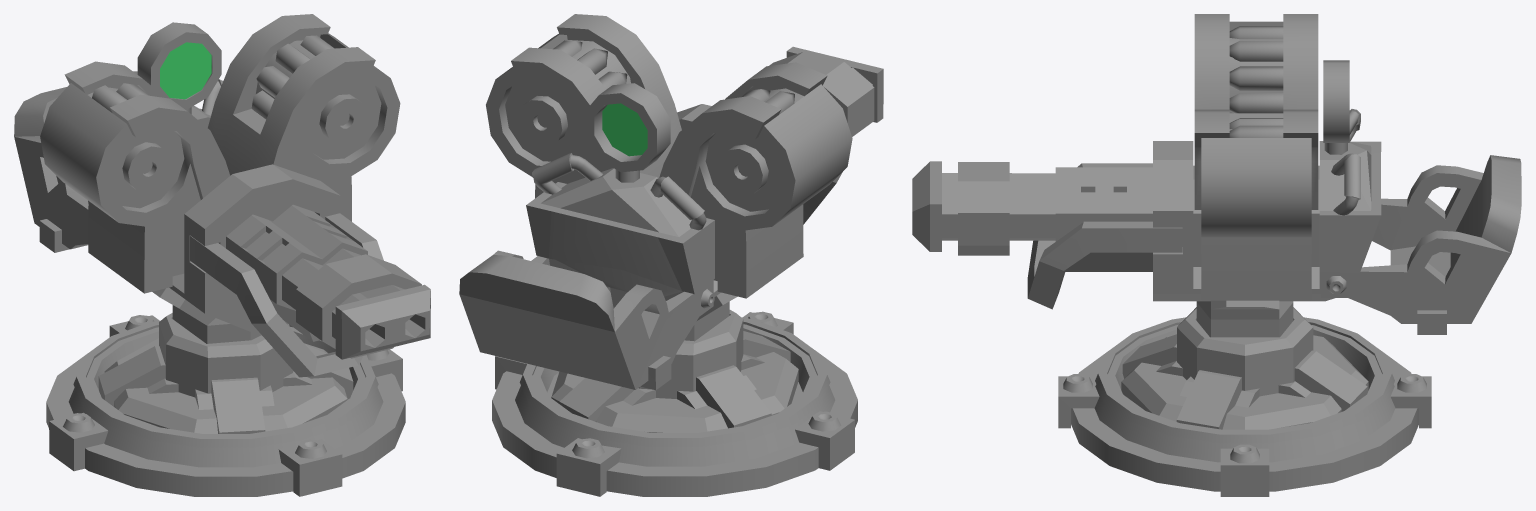
The model's file is TurretTransformer.FBX.
3 renders of one model, left to right at view 1: azimuth 30°, elevation 25°; view 2: azimuth 150°, elevation 25°; view 3: azimuth 270°, elevation 25°, orthographic. The views are drawn at different scales.
Visible parts, largest first — view 1: TurretPlatform, TurretBullets_R, TurretBullets_L, TurretRotate, TurretBase, TurretBarrels, TurretBarrelsBase, TurretBaseFastening, TurretSeat, TurretBarrelsFastening, TurretBaseDown; view 2: TurretPlatform, TurretBullets_R, TurretBase, TurretSeat, TurretBullets_L, TurretRotate, TurretBarrelsFastening, TurretBarrels, TurretBaseDown, TurretBaseFastening; view 3: TurretPlatform, TurretBullets_L, TurretSeat, TurretRotate, TurretBase, TurretBullets_R, TurretBarrelsBase, TurretBarrels, TurretBaseFastening, TurretBarrelsFastening, TurretBaseDown.
Part boxes in pixels (box(x1,y1,x2,y2)): TurretPlatform: box(46, 315, 405, 496); TurretBullets_R: box(40, 61, 230, 293); TurretBullets_L: box(208, 14, 400, 221); TurretRotate: box(98, 313, 353, 433); TurretBase: box(88, 22, 340, 332); TurretBarrels: box(282, 248, 430, 359); TurretBarrelsBase: box(226, 204, 367, 341); TurretBaseFastening: box(190, 213, 383, 377); TurretSeat: box(14, 71, 197, 252); TurretBarrelsFastening: box(296, 254, 421, 358); TurretBaseDown: box(152, 287, 261, 343); TurretPlatform: box(492, 311, 857, 496); TurretBullets_R: box(659, 62, 852, 298); TurretBase: box(526, 83, 720, 308); TurretSeat: box(459, 250, 714, 390); TurretBullets_L: box(486, 14, 681, 198); TurretRotate: box(551, 310, 798, 432); TurretBarrelsFastening: box(769, 52, 874, 136); TurretBarrels: box(786, 46, 883, 122); TurretBaseDown: box(685, 292, 737, 341); TurretBaseFastening: box(803, 172, 842, 224); TurretPlatform: box(1058, 317, 1431, 496); TurretBullets_L: box(1194, 109, 1318, 300); TurretSeat: box(1321, 155, 1521, 334); TurretRotate: box(1121, 307, 1368, 429); TurretBase: box(1153, 60, 1381, 301); TurretBullets_R: box(1194, 14, 1318, 122); TurretBarrelsBase: box(1055, 167, 1152, 271); TurretBarrels: box(912, 161, 1055, 251); TurretBaseFastening: box(1027, 163, 1182, 309); TurretBarrelsFastening: box(958, 162, 1009, 255); TurretBaseDown: box(1196, 300, 1293, 337).
Size of the model in its own units: 127 by 133 by 207.
